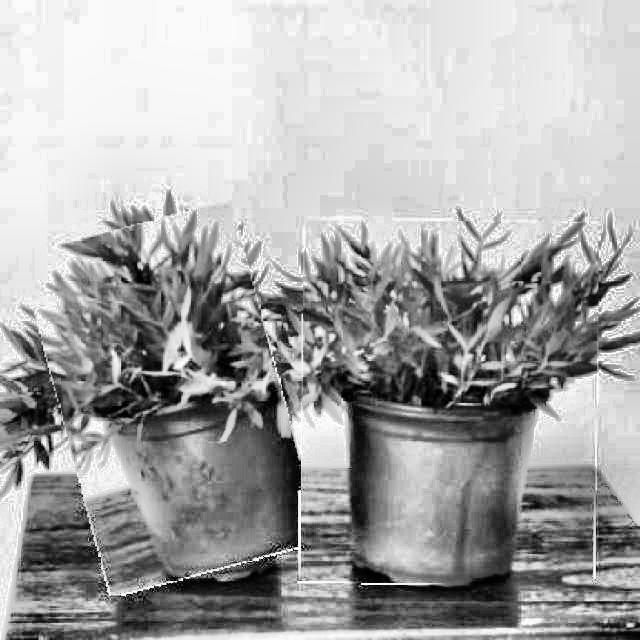plants: (300, 220, 598, 586), (41, 211, 301, 587)
